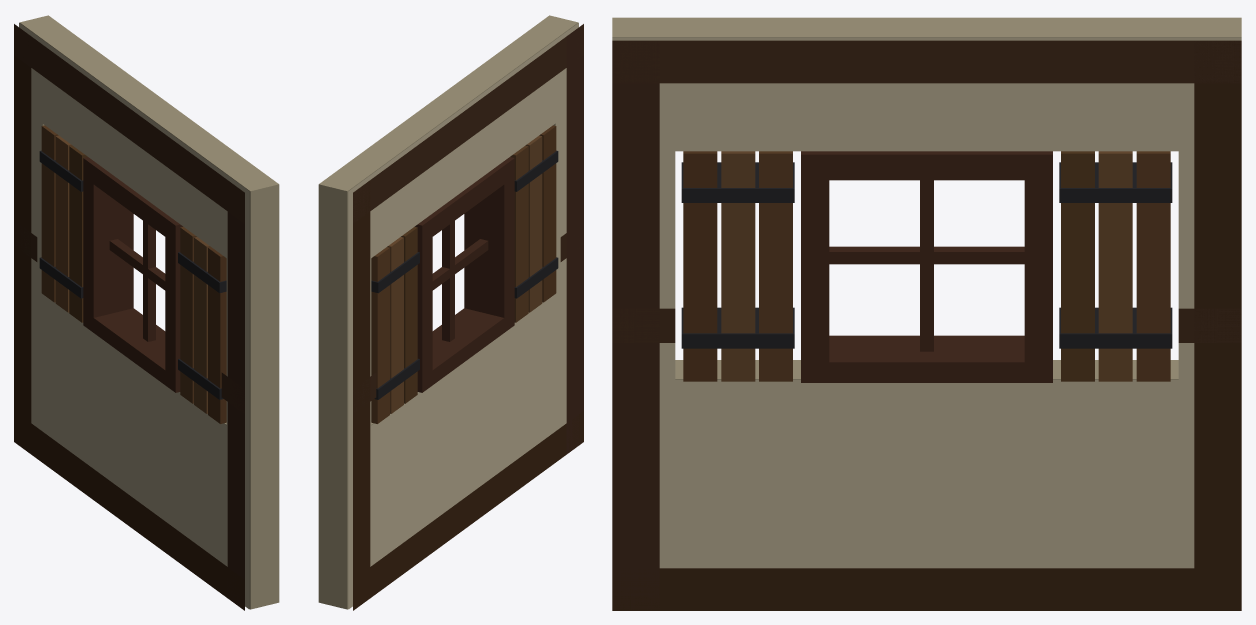
File: wall-halftimber-window-shutters.glb
The picture shows the model from 3 angles, left to right: view 1: azimuth 30°, elevation 25°; view 2: azimuth 150°, elevation 25°; view 3: azimuth 270°, elevation 25°; orthographic projection. The views are drawn at different scales.
Parts seen in each view (by area): view 1: wall-halftimber-window-shutters; view 2: wall-halftimber-window-shutters; view 3: wall-halftimber-window-shutters.
Part boxes in pixels (x1,y1,x2,y2): wall-halftimber-window-shutters: [14, 15, 279, 610]; wall-halftimber-window-shutters: [318, 15, 583, 610]; wall-halftimber-window-shutters: [612, 17, 1241, 610].
Bounding box in the file's own units: 0.1 × 1 × 1.
